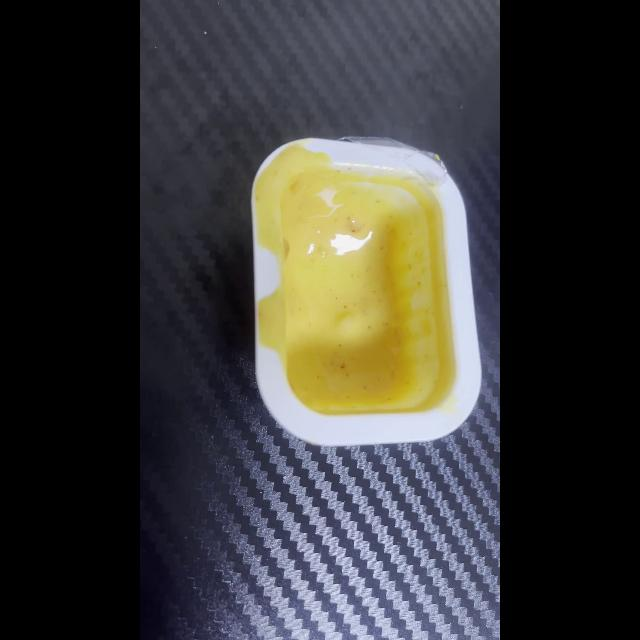dirty: (250, 140, 478, 444)
